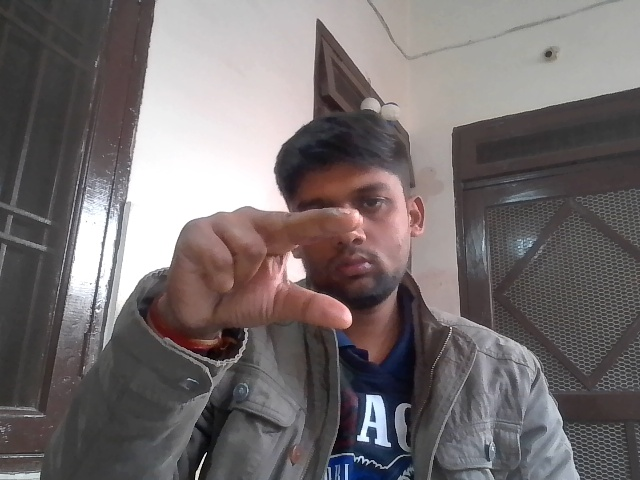No: (155, 200, 389, 340)
